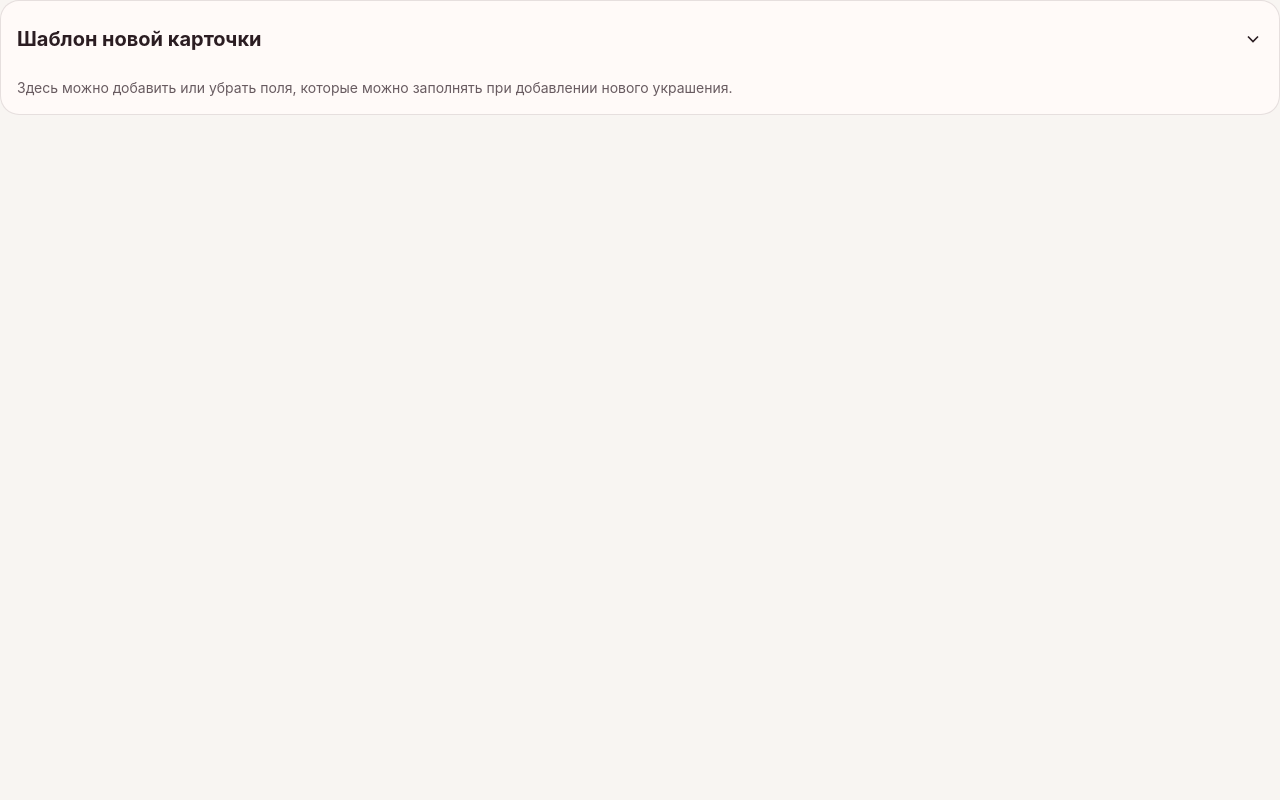
Test case: starts collapsed and retains checkbox drafts while collapsed until save
Click the button "Шаблон новой карточки": (139,39) [17,17,1263,61]
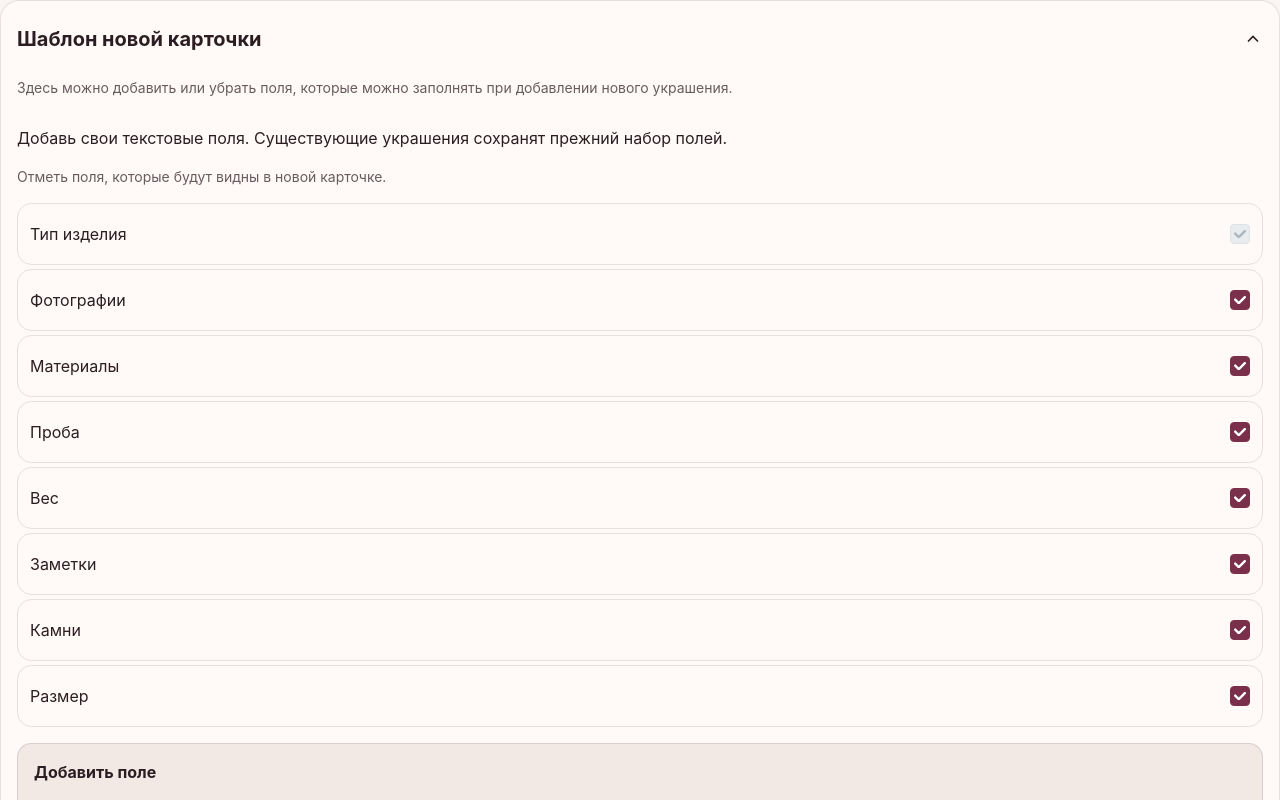
Click the checkbox named "Показывать поле «Фотографии»": (1240,300) [1230,290,1250,310]
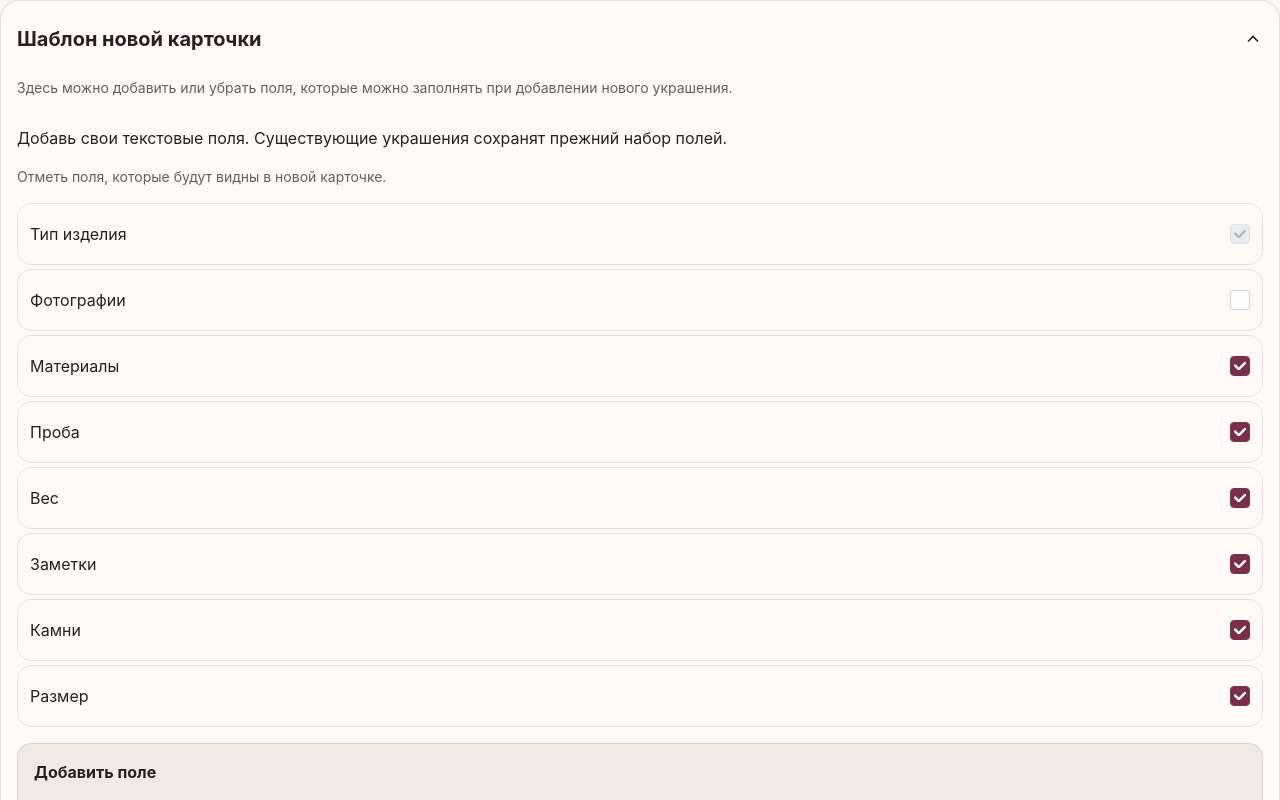
Click the button "Шаблон новой карточки": (139,39) [17,17,1263,61]
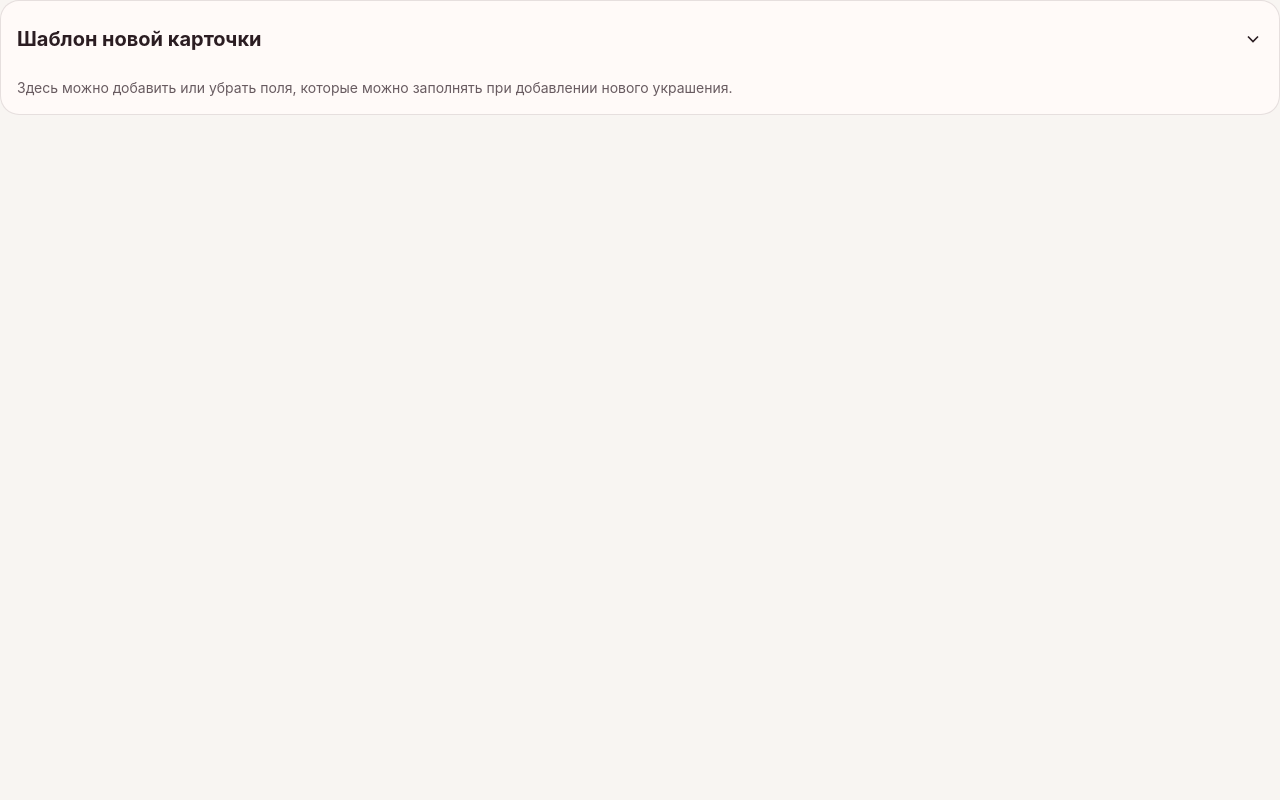
Click the button "Шаблон новой карточки": (139,39) [17,17,1263,61]
(page scrolled)
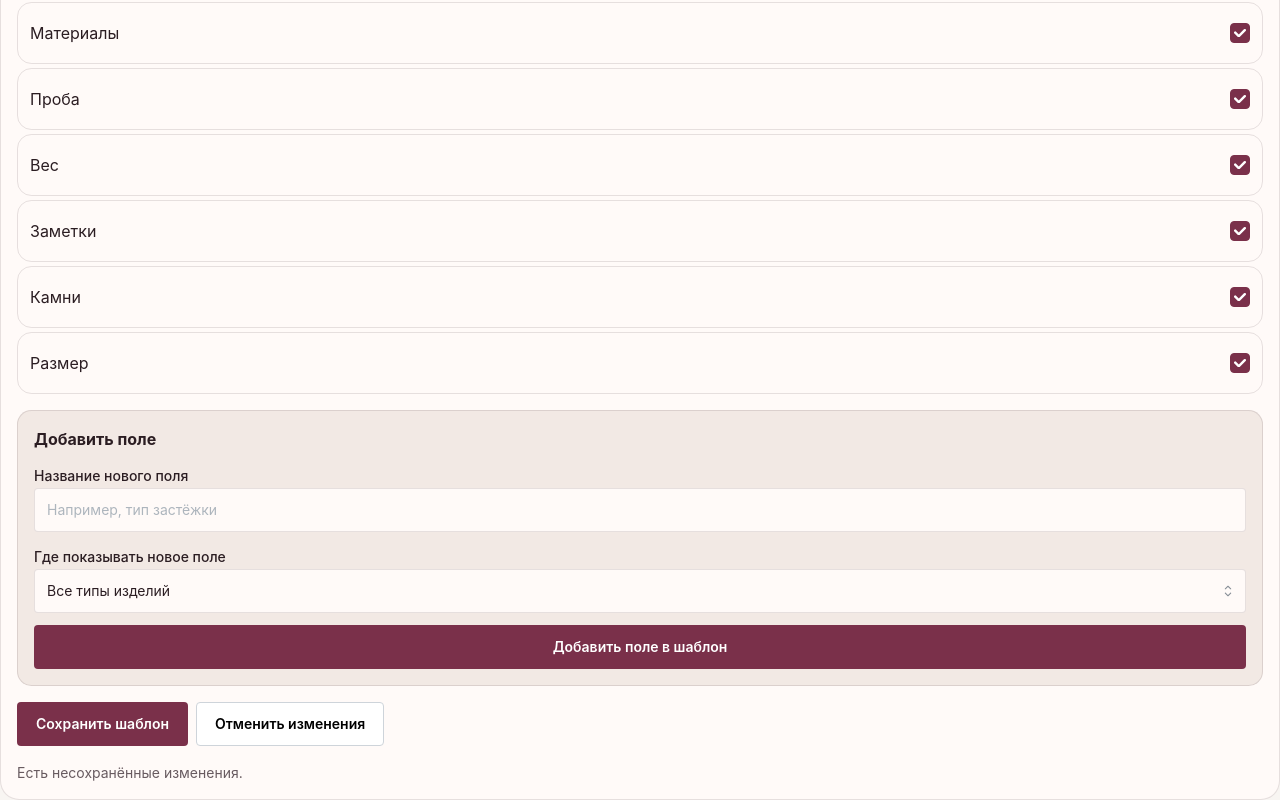
Click the button "Сохранить шаблон": (102,724) [17,702,188,746]
(page scrolled)
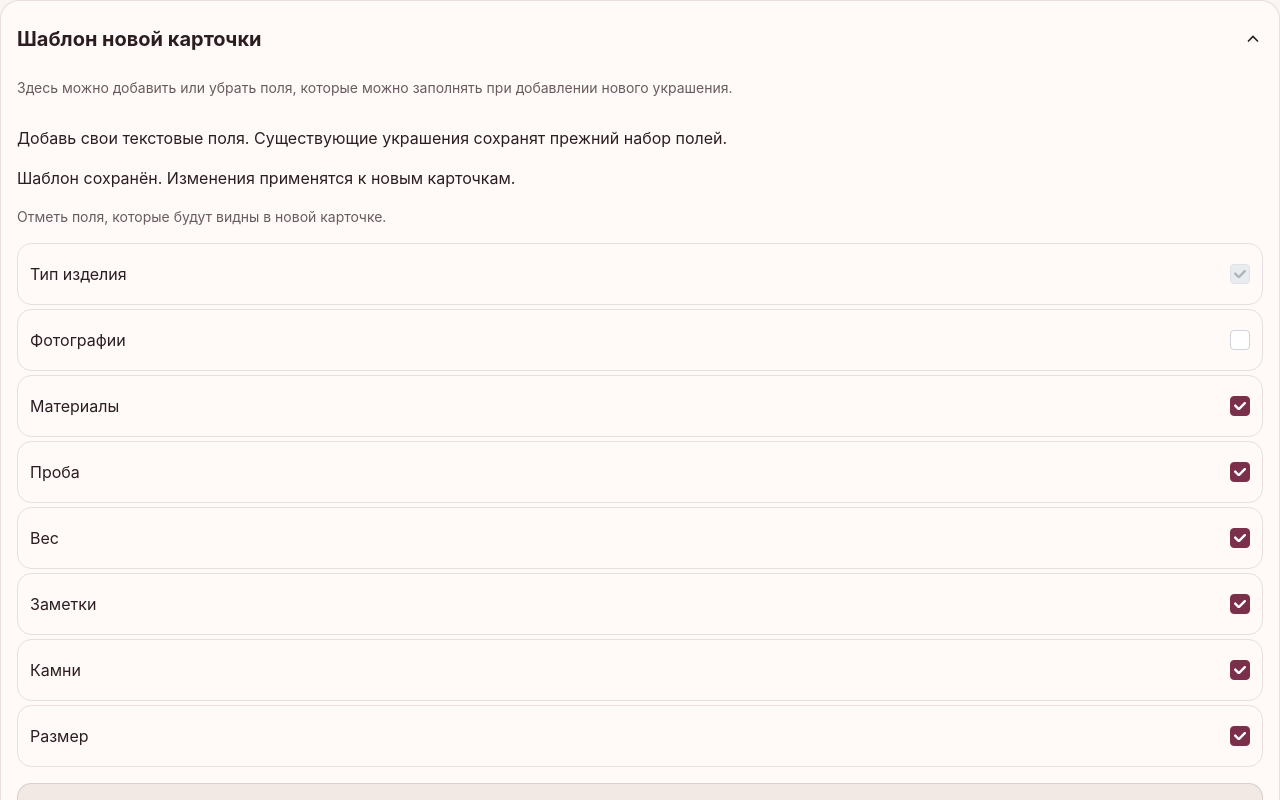
Expected: the message "Шаблон сохранён. Изменения применятся к новым карточкам." is shown, [17,168,515,188]
